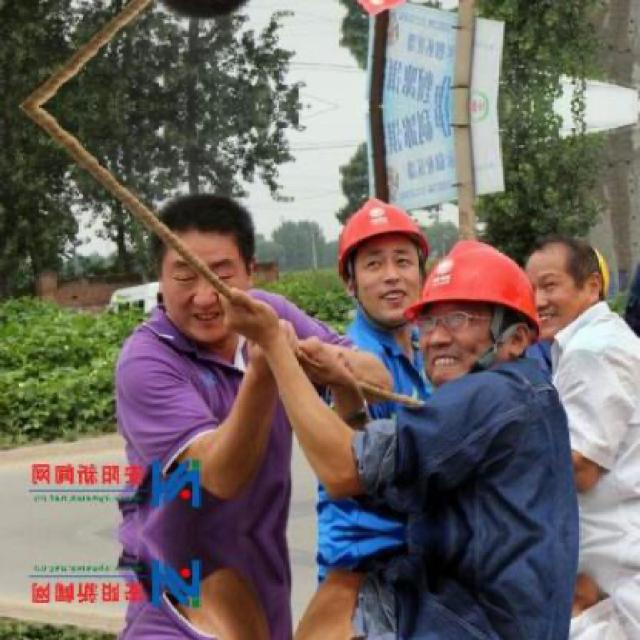con casco: (402, 234, 553, 444), (326, 168, 441, 305)
sin casco: (132, 197, 276, 354), (513, 238, 618, 359)
